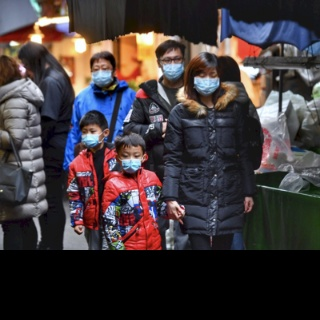with_mask: (192, 70, 221, 97), (160, 54, 184, 81), (91, 63, 114, 90), (120, 148, 143, 174), (80, 126, 100, 148)
